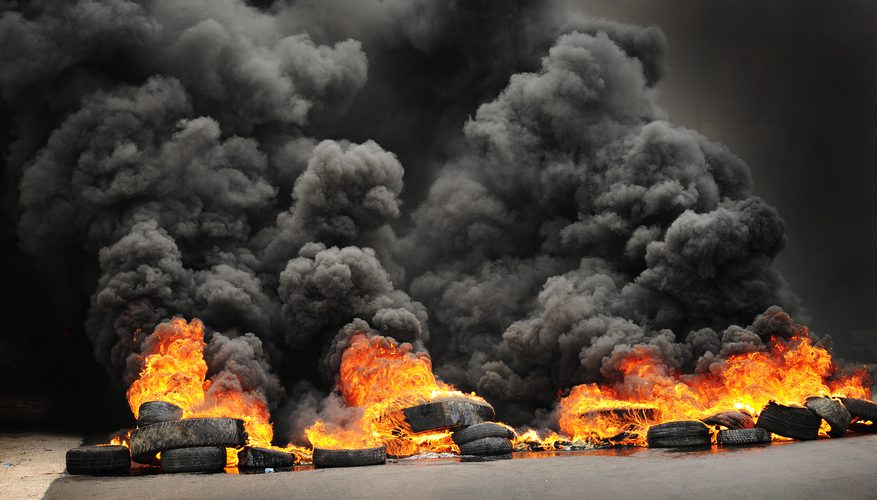fire: (107, 319, 866, 453)
